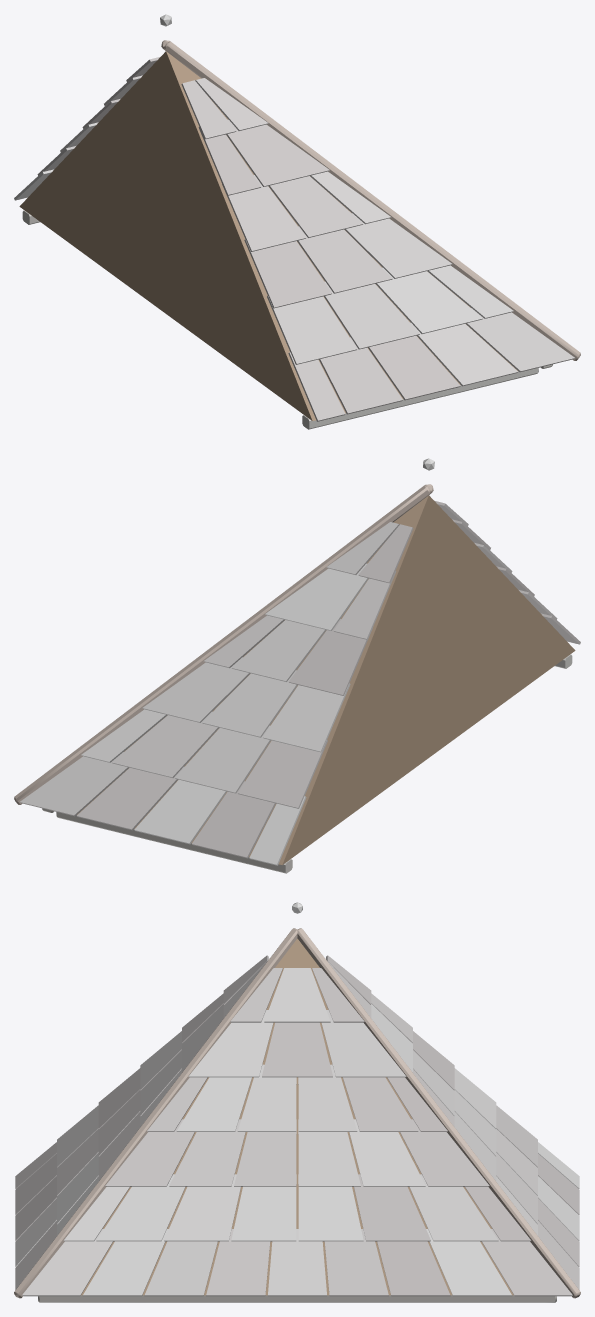
The model's file is Kit_RealKeep_RoofB.fbx.
3 views of the same model, one above another, from view 1: azimuth 30°, elevation 25°; view 2: azimuth 150°, elevation 25°; view 3: azimuth 270°, elevation 25° (orthographic). The views are drawn at different scales.
Parts seen in each view (by area): view 1: Kit_RealKeep_RoofB_LOD0; view 2: Kit_RealKeep_RoofB_LOD0; view 3: Kit_RealKeep_RoofB_LOD0.
Boxes of the visible parts, x1=… form: Kit_RealKeep_RoofB_LOD0: x1=14, y1=14, x2=580, y2=429; Kit_RealKeep_RoofB_LOD0: x1=14, y1=458, x2=580, y2=873; Kit_RealKeep_RoofB_LOD0: x1=14, y1=902, x2=580, y2=1302.
Size of what is drawn, in the model's own units: 3.18 by 3.5 by 6.23.
